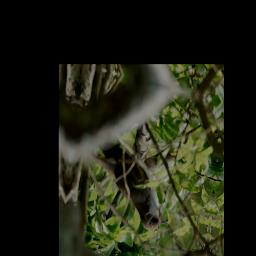Cuckoo: (81, 135, 175, 237)
